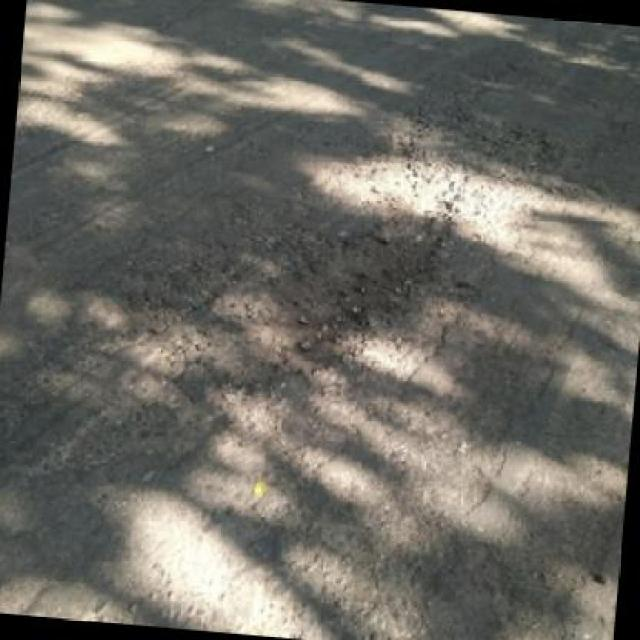pothole1: (238, 193, 459, 384)
